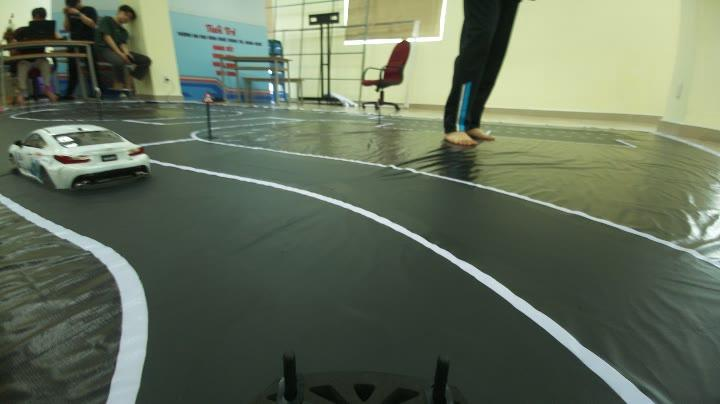car: (11, 113, 152, 200)
